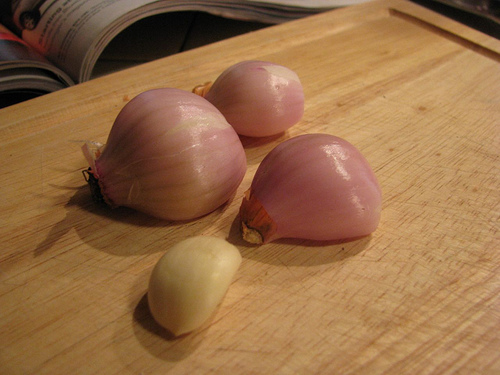onion: (82, 87, 247, 223), (239, 134, 383, 247), (193, 59, 305, 141)
